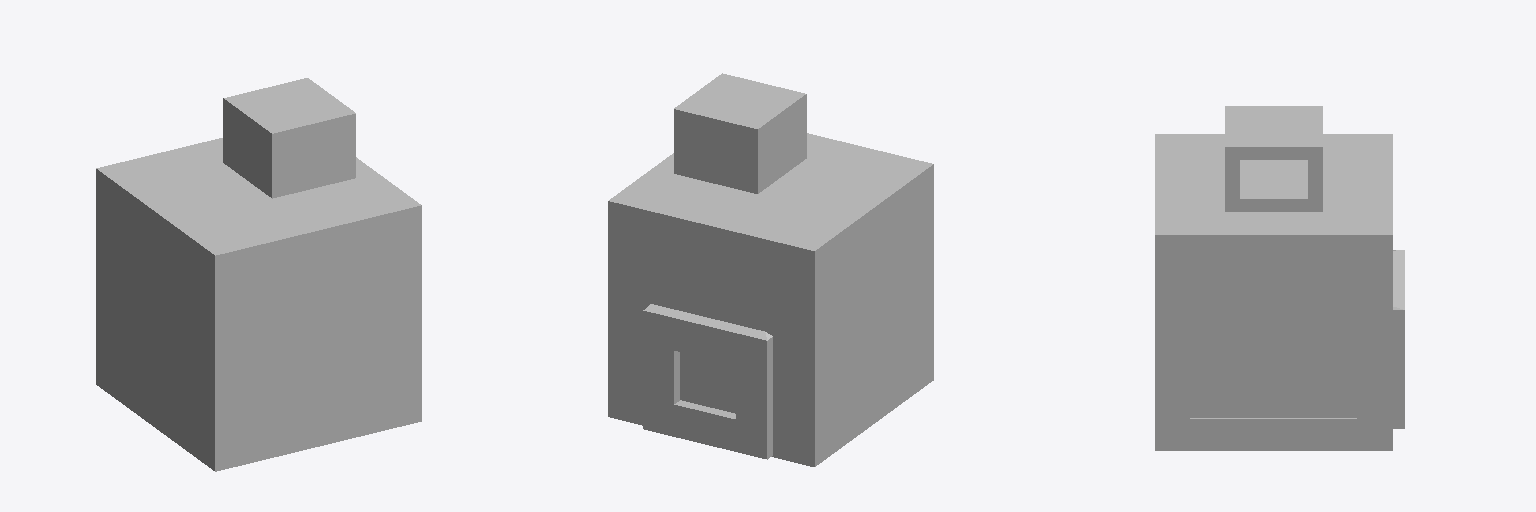
File: mightyfoundry.obj
3 renders of one model, left to right at view 1: azimuth 30°, elevation 25°; view 2: azimuth 150°, elevation 25°; view 3: azimuth 270°, elevation 25°, orthographic.
Parts seen in each view (by area): view 1: mightyfoundry-join_Cube.002; view 2: mightyfoundry-join_Cube.002; view 3: mightyfoundry-join_Cube.002.
Part boxes in pixels (x1,y1,x2,y2): mightyfoundry-join_Cube.002: (96,78,421,471); mightyfoundry-join_Cube.002: (608,73,933,466); mightyfoundry-join_Cube.002: (1155,106,1404,450).
Size of the model in its own units: 1 by 1.34 by 1.05.